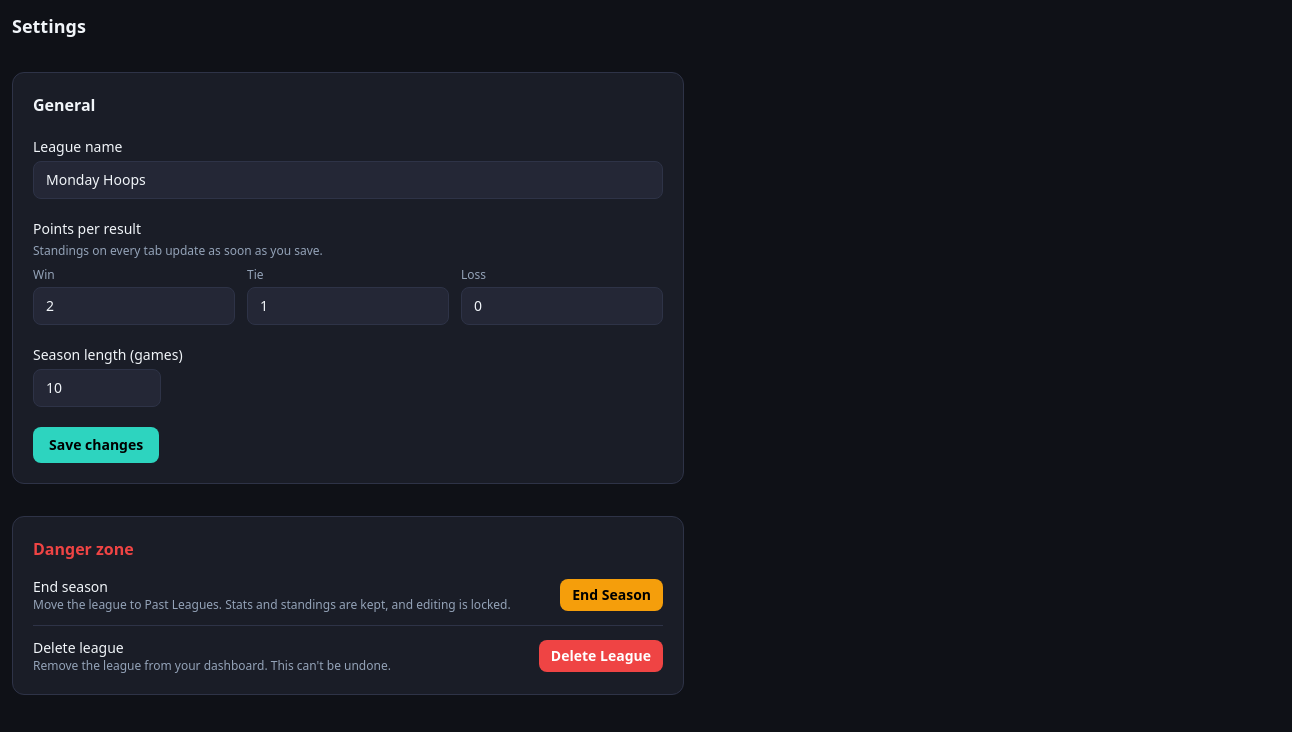
Scenario: SettingsPage › saves new scoring rules and season length
Replace the text in the number field labelled "win" with "3". click: (134, 306)
box: left=33, top=287, right=235, bottom=325
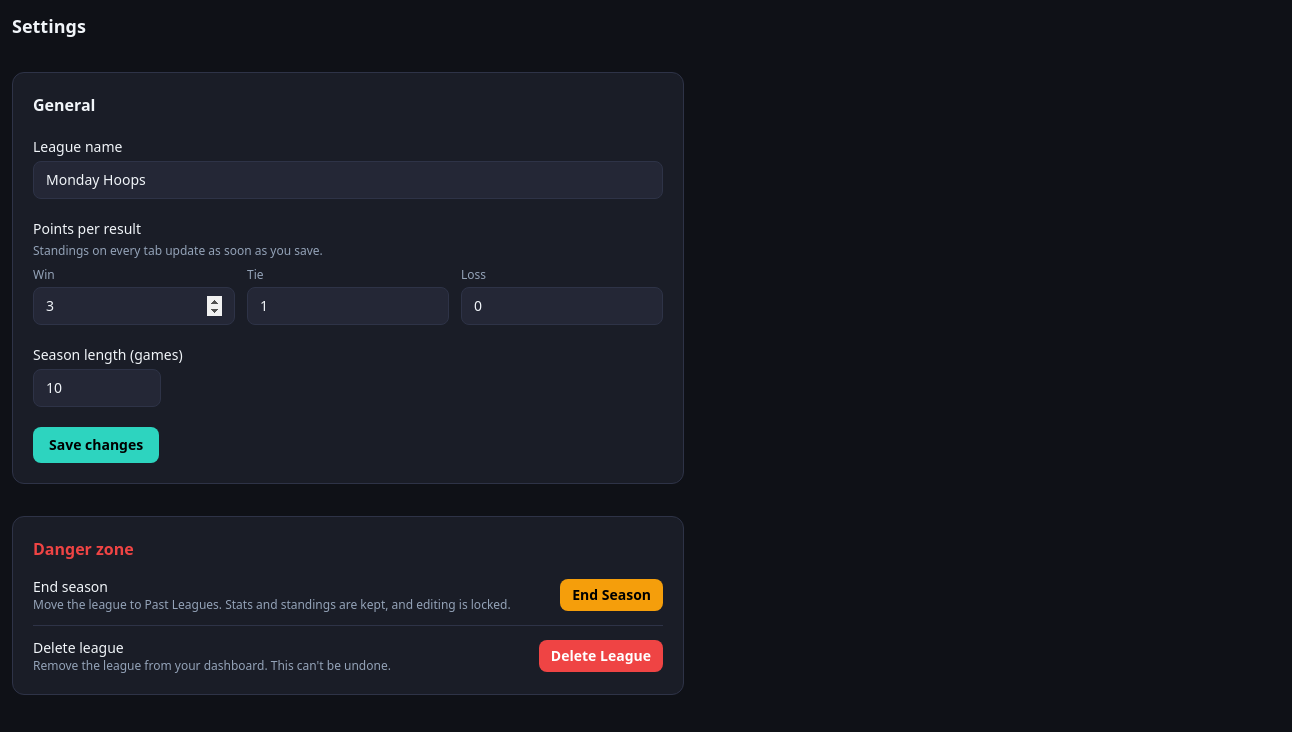
Replace the text in the number field labelled "Season length (games)" with "12". click: (97, 388)
box: left=33, top=369, right=161, bottom=407
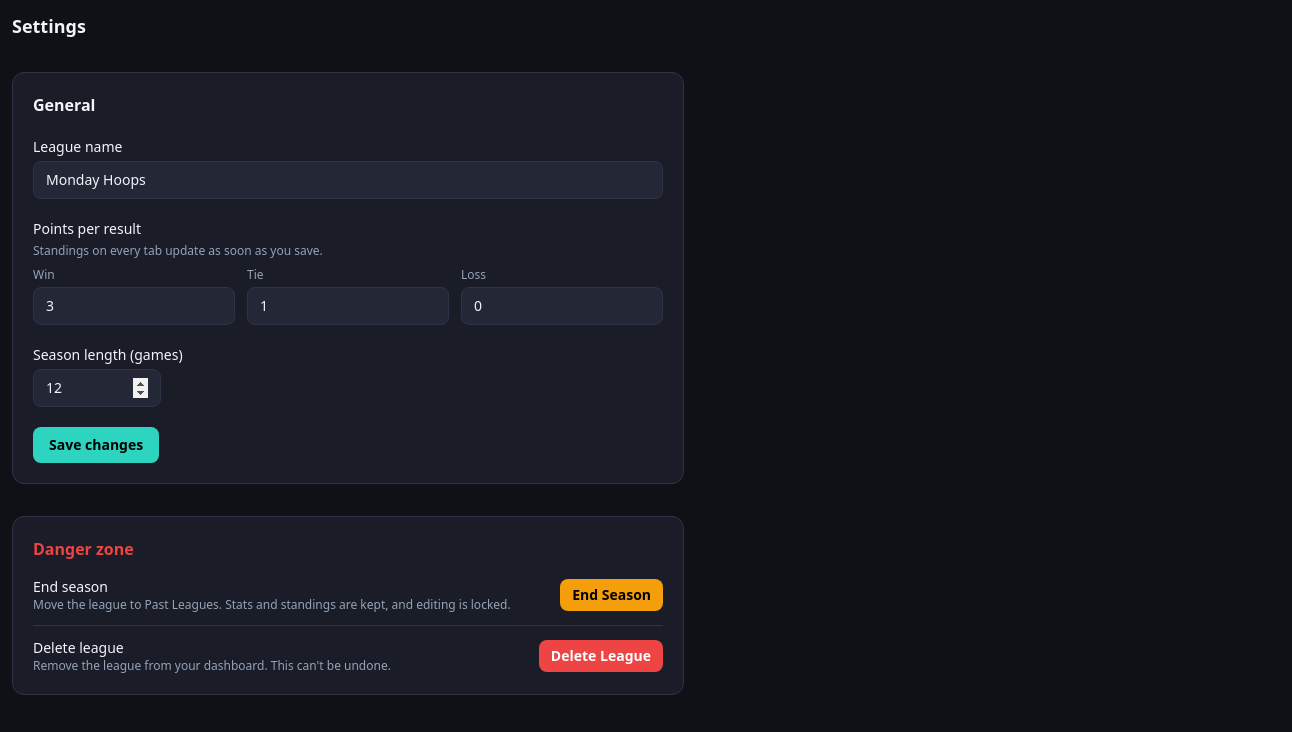
Click the button "Save changes". click: (96, 445)
box: left=33, top=427, right=159, bottom=463
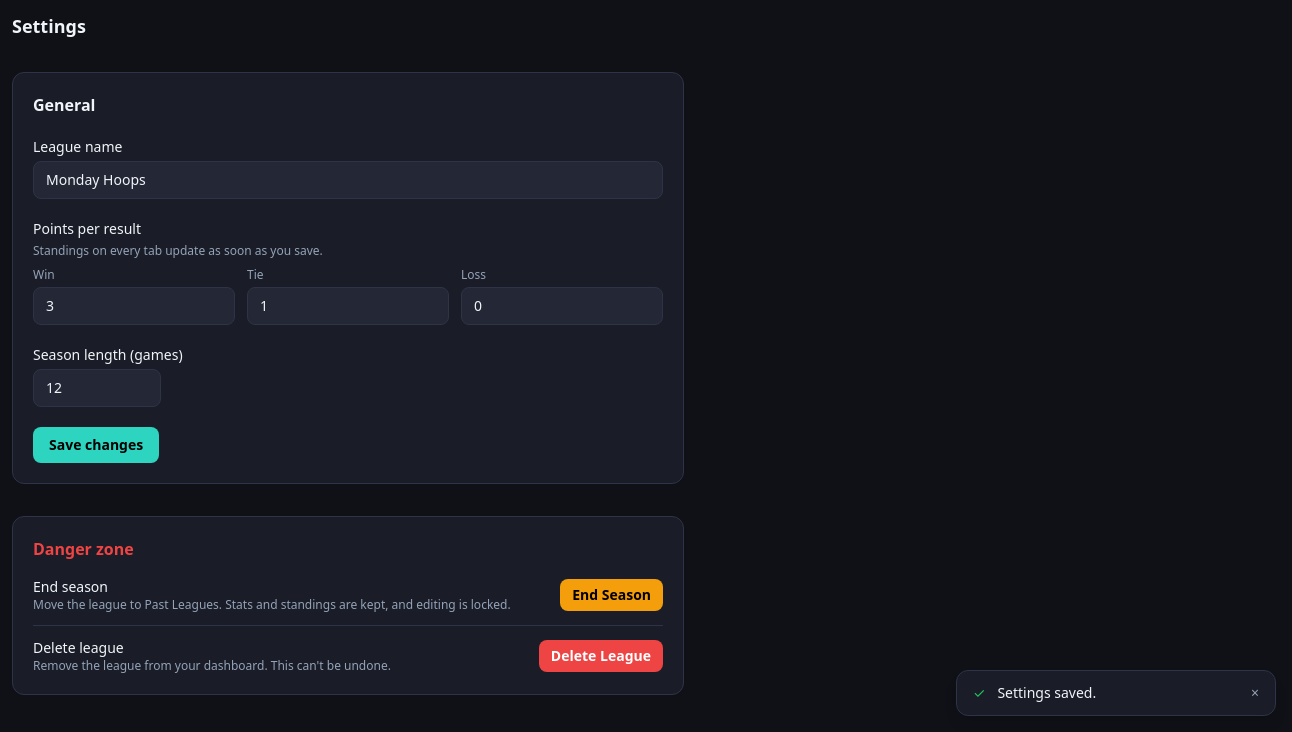
Result: the message shows "Settings saved." at left=997, top=683, right=1096, bottom=702
